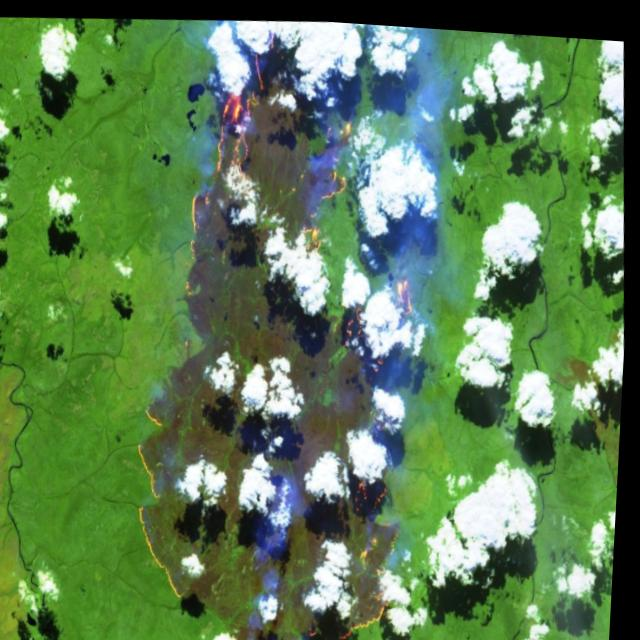fire: (101, 7, 461, 640)
